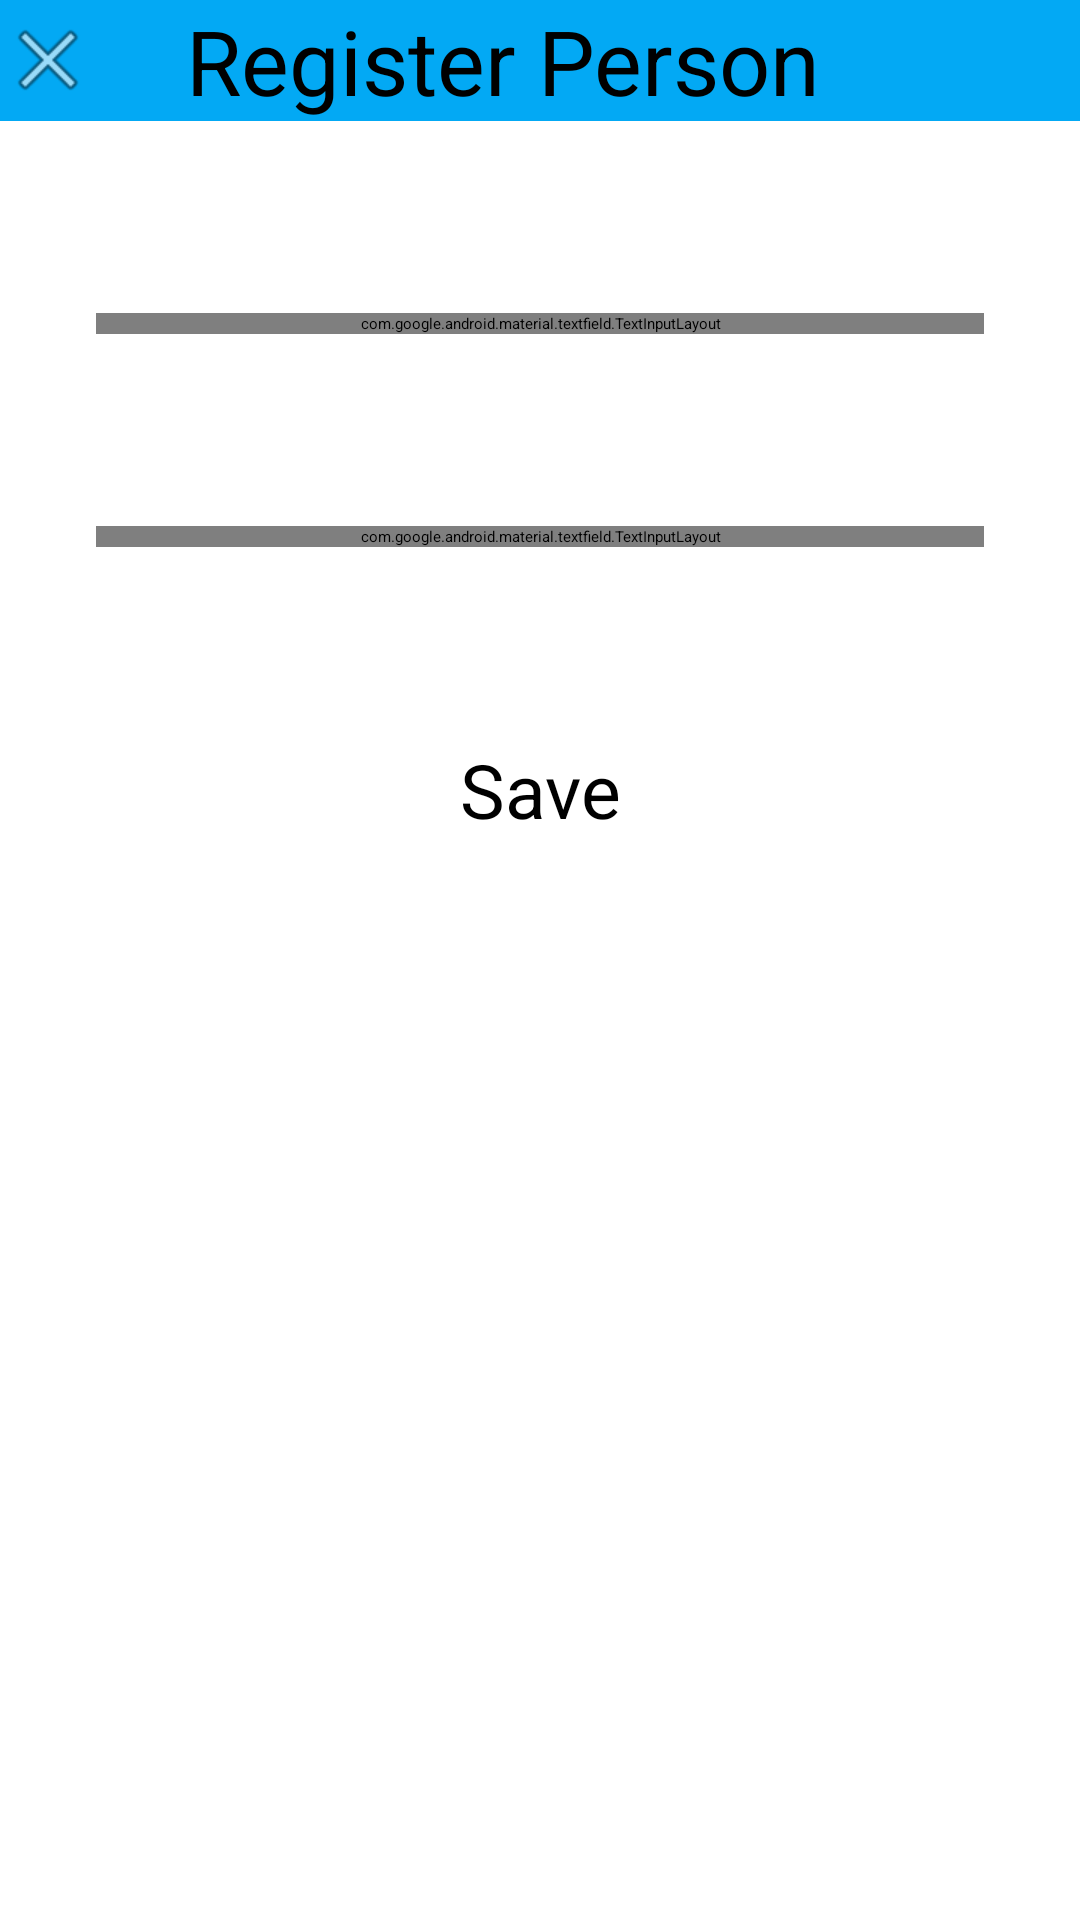

Icon bounding boxes for this 1080px×1920px phone screenshot, format (x1, y1, x2, y2):
close clear cancel: (18, 30, 78, 90)
